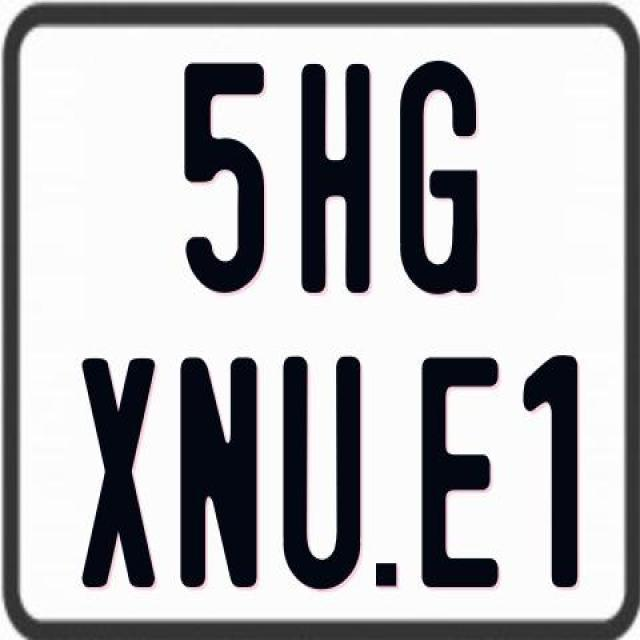1: (521, 350, 575, 588)
5: (180, 58, 262, 296)
E: (421, 357, 499, 591)
G: (400, 58, 478, 295)
H: (299, 64, 373, 294)
N: (178, 357, 258, 589)
U: (279, 355, 365, 589)
X: (79, 358, 157, 592)
